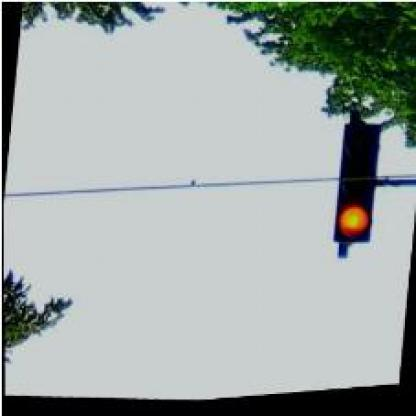red: (333, 126, 382, 252)
